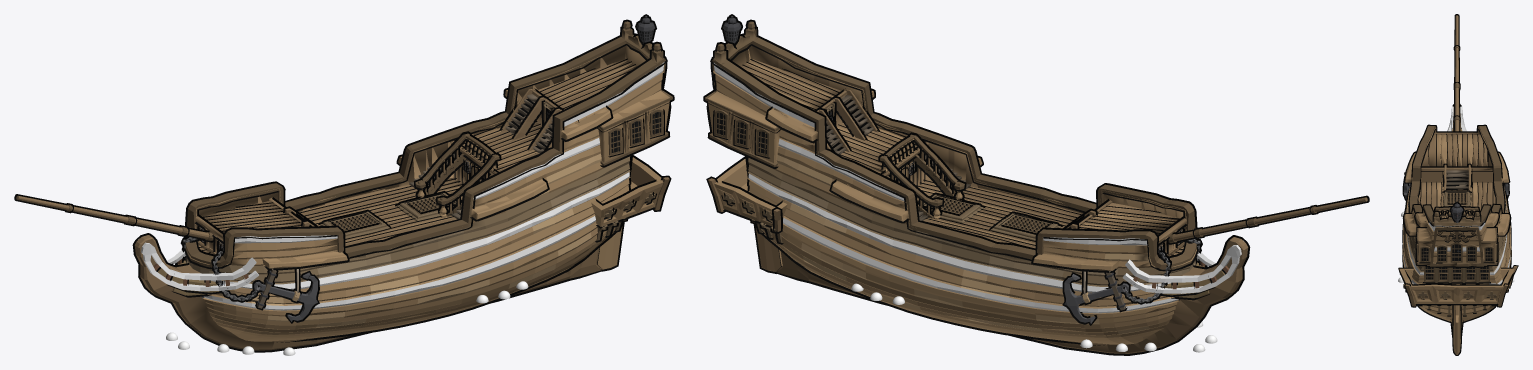
3 views of the same model, side by side, from view 1: azimuth 30°, elevation 25°; view 2: azimuth 150°, elevation 25°; view 3: azimuth 270°, elevation 25° (orthographic). The views are drawn at different scales.
Visible parts, largest first — view 1: ROOT_MESH, COLOR_BAND; view 2: ROOT_MESH, COLOR_BAND; view 3: ROOT_MESH, COLOR_BAND.
Part boxes in pixels (box(x1,y1,x2,y2)): ROOT_MESH: box(14, 14, 674, 352); COLOR_BAND: box(138, 62, 664, 310); ROOT_MESH: box(703, 14, 1369, 355); COLOR_BAND: box(714, 63, 1243, 313); ROOT_MESH: box(1398, 14, 1518, 355); COLOR_BAND: box(1403, 106, 1510, 284).
Bounding box in the file's own units: 1.57 × 0.5882 × 0.3839.
4 materials, 1 textured.
